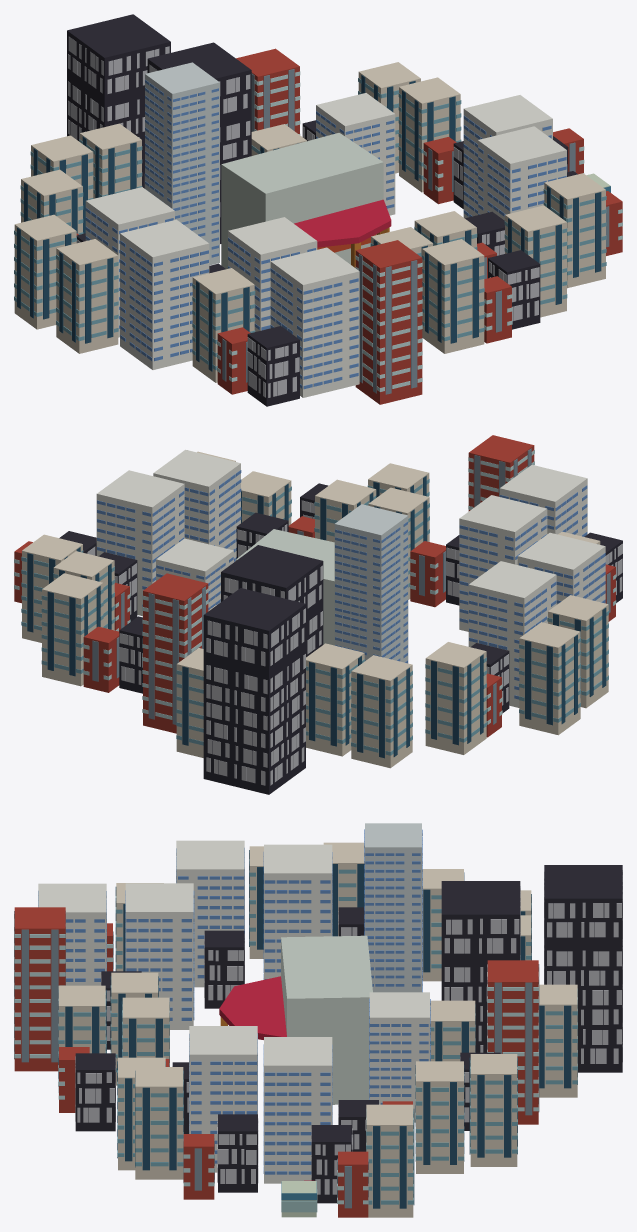
File: level3 buliding.fbx
3 renders of one model, top to bottom at view 1: azimuth 30°, elevation 25°; view 2: azimuth 150°, elevation 25°; view 3: azimuth 270°, elevation 25°, orthographic. The views are drawn at different scales.
Visible parts, largest first — view 1: building; view 2: building; view 3: building.
Part boxes in pixels (x1,y1,x2,y2): building: (14, 14, 622, 406); building: (14, 435, 622, 794); building: (14, 823, 622, 1217).
Bounding box in the file's own units: 37488 × 12775 × 34151.
